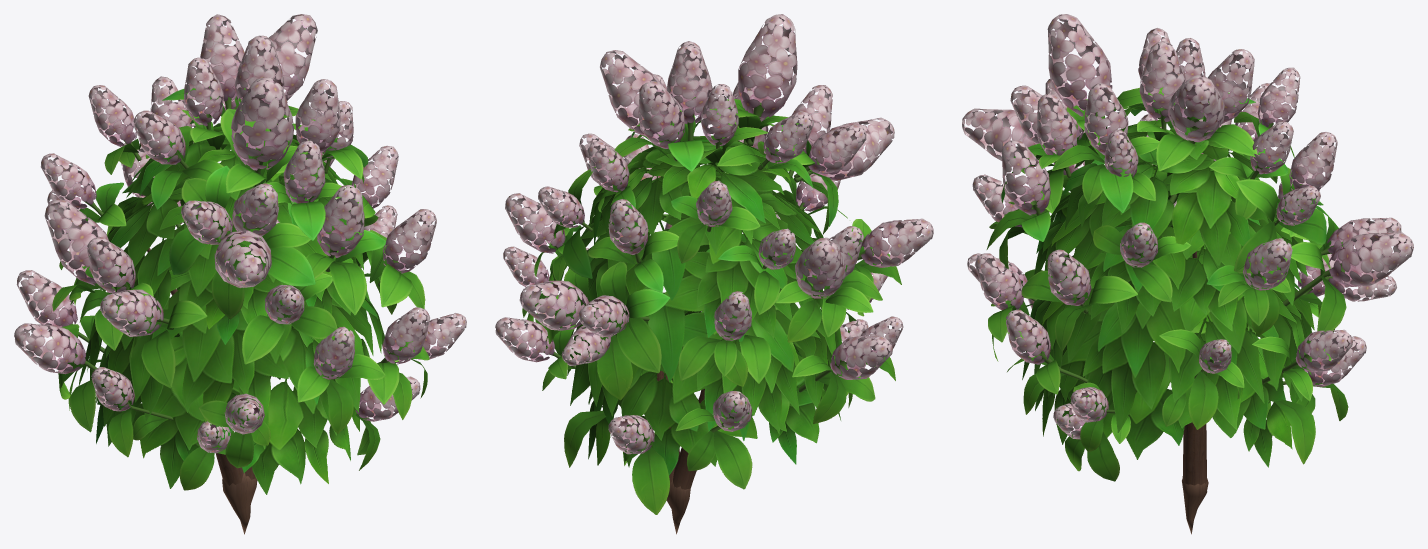
Rendered from SE_Lilac_01b.fbx.
3 renders of one model, left to right at view 1: azimuth 30°, elevation 25°; view 2: azimuth 150°, elevation 25°; view 3: azimuth 270°, elevation 25°, orthographic. The views are drawn at different scales.
Visible parts, largest first — view 1: SE_Lilac_01b; view 2: SE_Lilac_01b; view 3: SE_Lilac_01b.
Boxes of the visible parts, left/top/right/bottom form: SE_Lilac_01b: left=14, top=14, right=466, bottom=534; SE_Lilac_01b: left=495, top=14, right=933, bottom=534; SE_Lilac_01b: left=962, top=14, right=1413, bottom=534.
Bounding box in the file's own units: 4.13 × 5.13 × 4.21.
